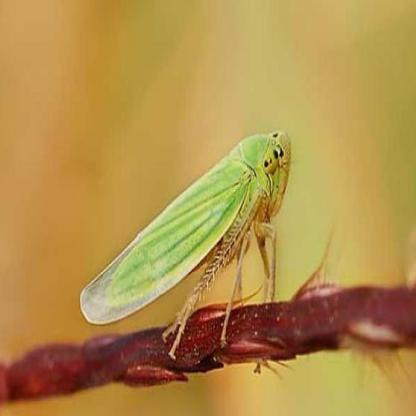Green-Leafhopper: (80, 125, 298, 360)
